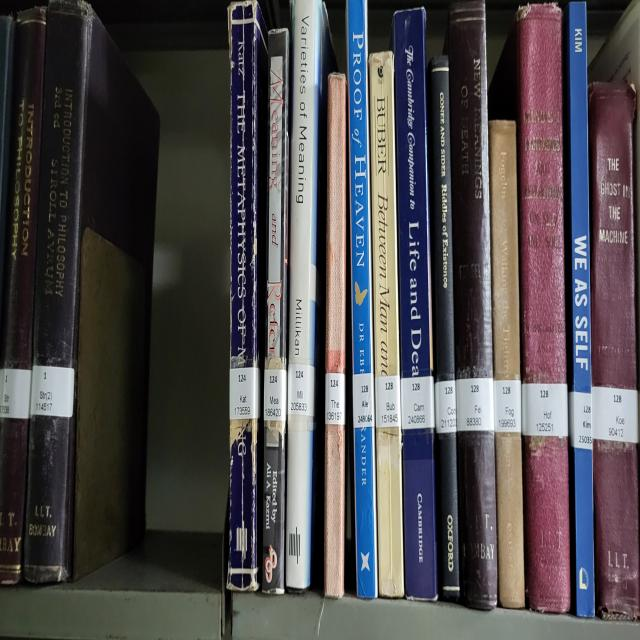Book: (24, 3, 160, 584), (490, 5, 570, 611), (448, 0, 498, 609), (285, 0, 335, 590), (391, 8, 438, 601), (0, 8, 46, 584), (228, 0, 268, 590), (369, 51, 404, 598), (346, 0, 378, 598), (564, 3, 595, 617), (489, 119, 525, 609), (428, 57, 460, 601), (261, 27, 290, 595), (324, 73, 346, 598)
Label: (591, 387, 639, 444), (521, 384, 568, 438), (30, 365, 75, 417), (456, 379, 494, 433), (401, 376, 435, 430), (0, 368, 31, 419), (230, 368, 260, 419), (288, 363, 315, 417), (494, 379, 521, 433), (375, 376, 401, 427), (569, 392, 592, 449), (352, 373, 375, 427), (264, 368, 286, 422), (435, 379, 456, 433), (325, 373, 345, 425)
